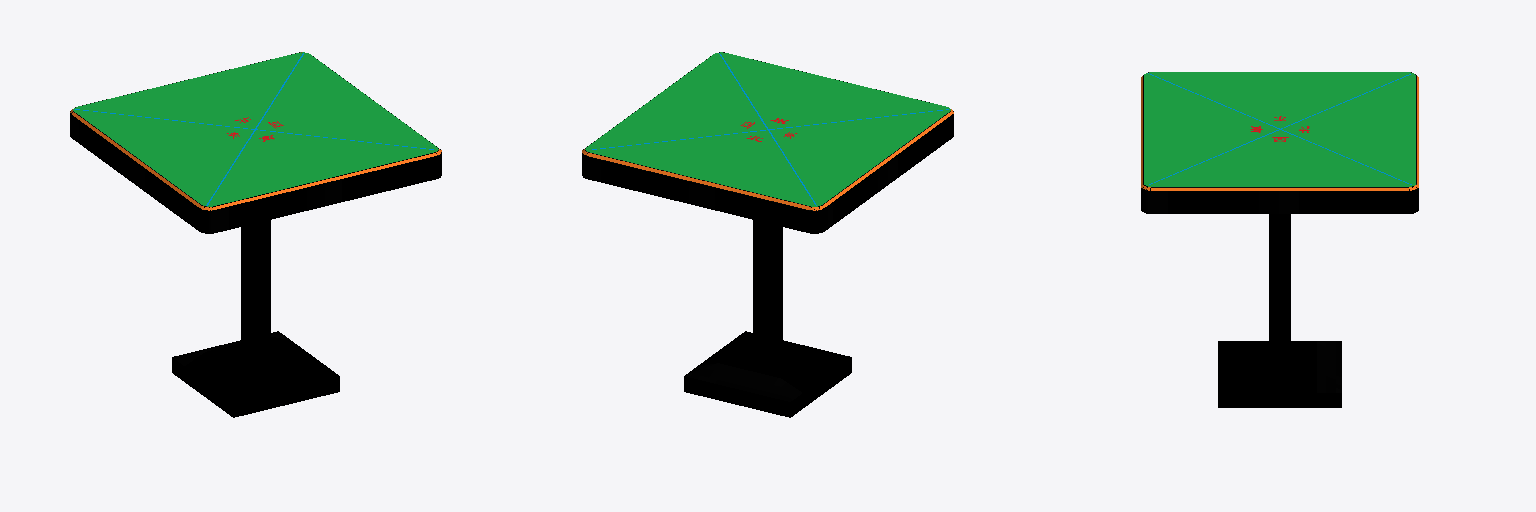
3 views of the same model, side by side, from view 1: azimuth 30°, elevation 25°; view 2: azimuth 150°, elevation 25°; view 3: azimuth 270°, elevation 25° (orthographic).
Visible parts, largest first — view 1: Cube; view 2: Cube; view 3: Cube.
Part boxes in pixels (left/top/right/bottom): Cube: left=70, top=52, right=441, bottom=417; Cube: left=582, top=52, right=953, bottom=417; Cube: left=1141, top=72, right=1418, bottom=407.
Bounding box in the file's own units: 2 × 2 × 2.
1 materials, 1 textured.